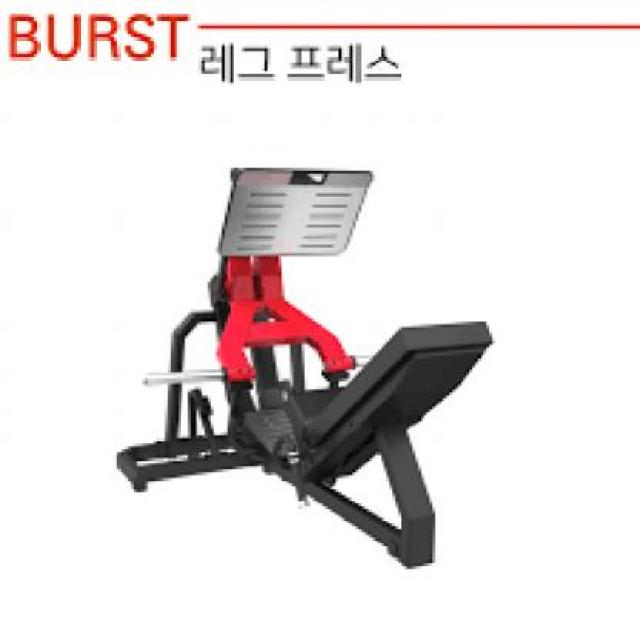leg press: (88, 142, 517, 578)
